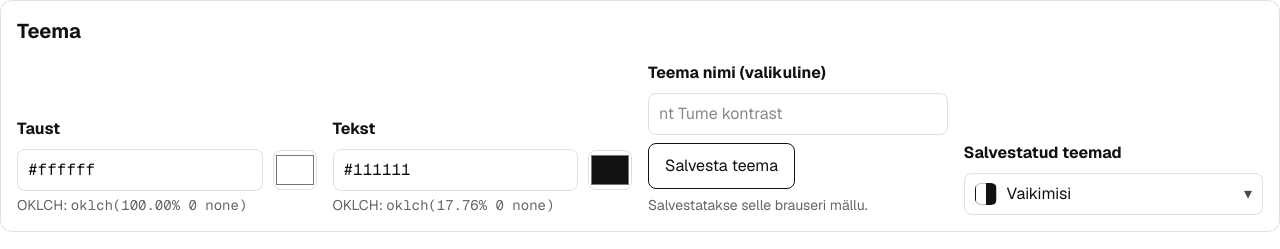
Scenario: ThemePicker › puts the last valid colour back when a half-typed value loses focus
Replace the text in the field labelled "Tekst" with "#12" at (455, 170), box [332,149,578,191]
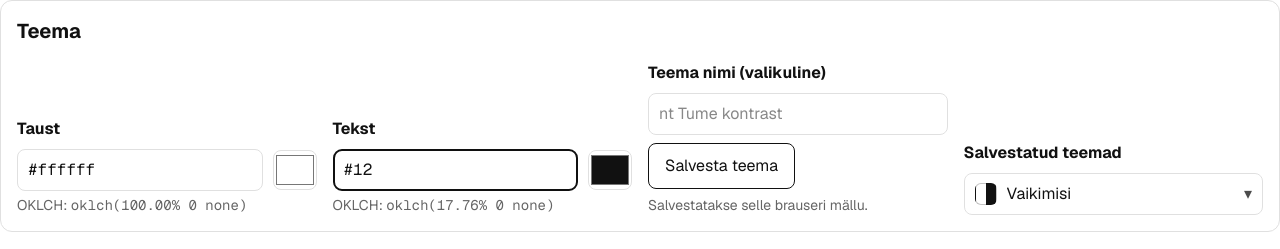
Press Tab
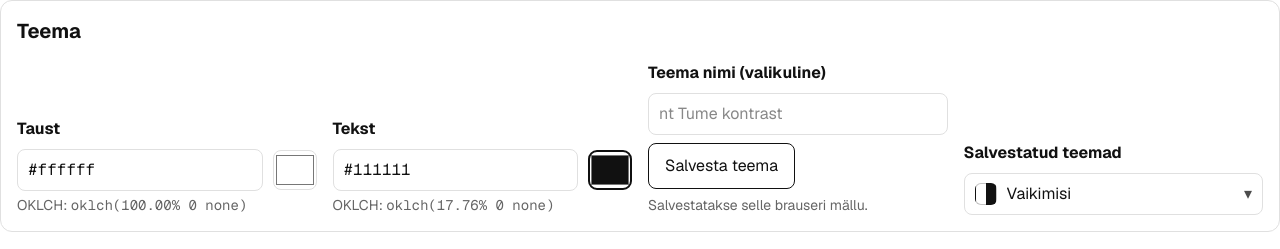
Expected: the field labelled "Tekst" holds "#111111", [332,149,578,191]
